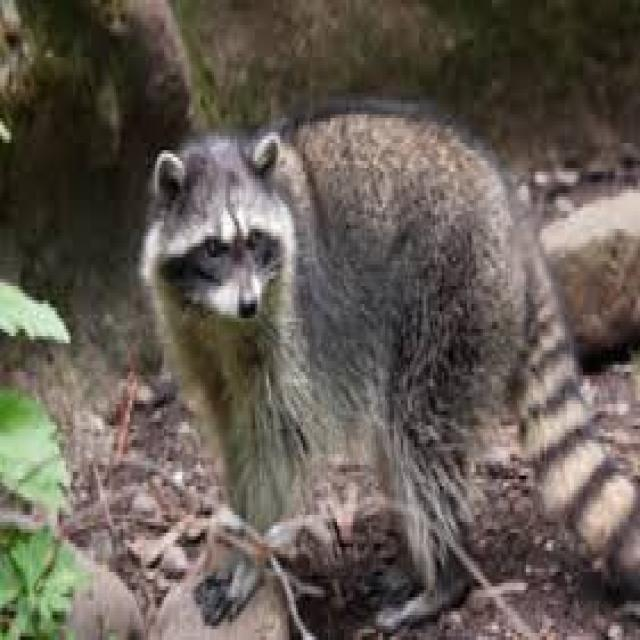Raccoon: (134, 100, 640, 594)
